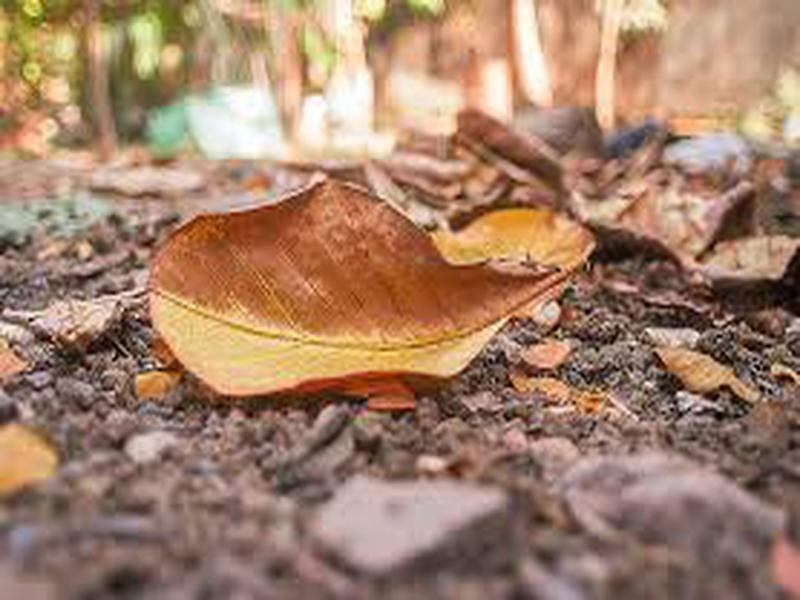leaf: (141, 171, 574, 405), (645, 332, 767, 407)
